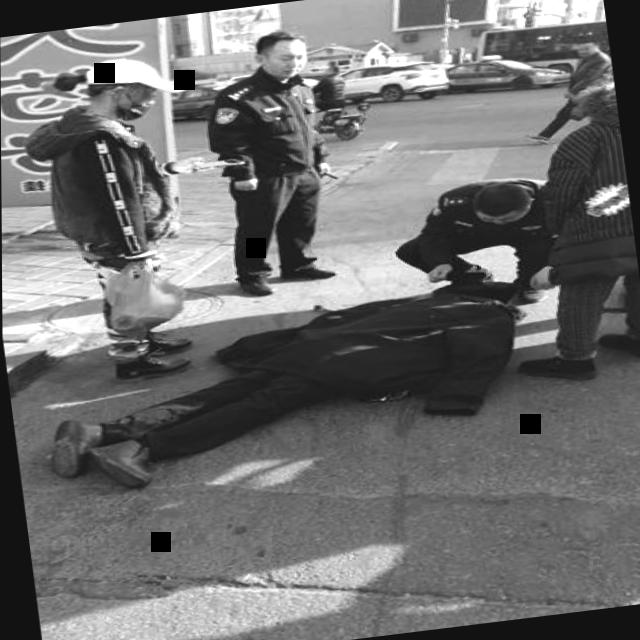Fall-Detected: (31, 272, 550, 488)
